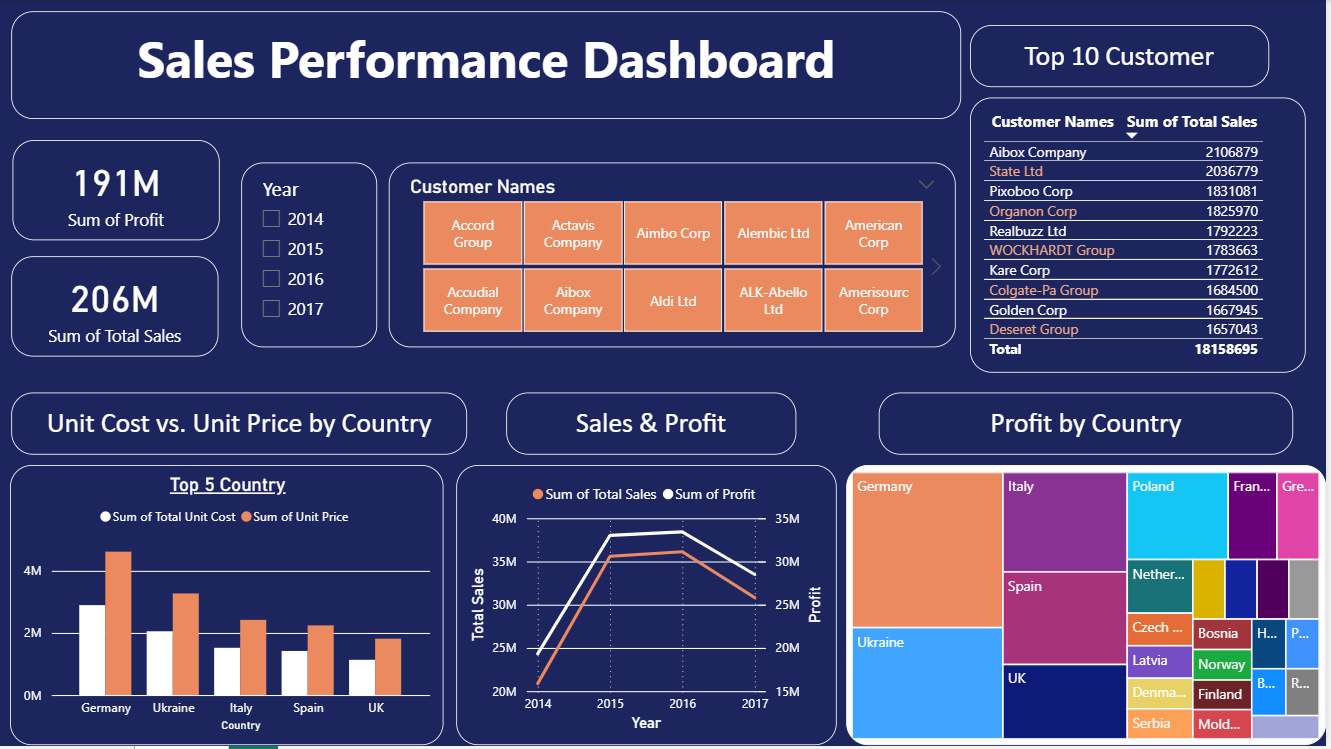

Layout of this report page (visuals, bound fields, positions):
{"tool":"powerbi","page":{"name":"Page 1","canvas":[1280,720],"ordinal":0},"visuals":[{"type":"card","fields":{"Values":["Sum(sales_orders.Line Total)"]},"box":[11.4,246.9,200,97],"z":0},{"type":"tableEx","fields":{"Values":["customers.Customer Names","Sum(sales_orders.Line Total)"]},"box":[935.7,94.3,324.3,265.7],"z":1000},{"type":"treemap","fields":{"Values":["Sum(sales_orders.Profit)"],"Details":["regions.Country"]},"box":[817.1,448.6,462.9,270],"z":2000},{"type":"lineChart","fields":{"Y":["Sum(sales_orders.Line Total)"],"Y2":["Sum(sales_orders.Profit)"],"Category":["sales_orders.OrderDate.Variation.Date Hierarchy.Year"]},"box":[440,448.6,367.1,270],"z":3000},{"type":"card","fields":{"Values":["Sum(sales_orders.Profit)"]},"box":[11.7,135.7,200,97.1],"z":4000},{"type":"clusteredColumnChart","title":"Top 5 Country","fields":{"Category":["regions.Country"],"Y":["Sum(sales_orders.Total Unit Cost)","Sum(sales_orders.Unit Price)"]},"box":[10,448.6,418.6,270],"z":5000},{"type":"textbox","box":[488.6,378.6,280,60],"z":6000},{"type":"textbox","box":[11.4,378.6,440,60],"z":7000},{"type":"textbox","box":[848.6,378.6,400,60],"z":8000},{"type":"slicer","fields":{"Values":["sales_orders.OrderDate.Variation.Date Hierarchy.Year"]},"box":[232.9,157.1,131.4,178.6],"z":9000},{"type":"slicer","fields":{"Values":["customers.Customer Names"]},"box":[374.9,156.6,547.1,178.6],"z":10000},{"type":"textbox","box":[935.7,24.3,288.6,60],"z":11000},{"type":"textbox","box":[11.4,11.4,917.1,104.3],"z":12000}]}

Visuals, with their boxes in screenshot pixels (x1, y1, x2, y2), scaled from the page's 1280x720 canvas onto the 1331x749 screenshot:
card - Sum(sales_orders.Line Total): box(12, 257, 220, 358)
tableEx - customers.Customer Names x Sum(sales_orders.Line Total): box(973, 98, 1310, 374)
treemap - Sum(sales_orders.Profit) x regions.Country: box(850, 467, 1330, 748)
lineChart - Sum(sales_orders.Line Total) x Sum(sales_orders.Profit): box(458, 467, 839, 748)
card - Sum(sales_orders.Profit): box(12, 141, 220, 242)
"Top 5 Country" clusteredColumnChart: box(10, 467, 446, 748)
textbox: box(508, 394, 799, 456)
textbox: box(12, 394, 469, 456)
textbox: box(882, 394, 1298, 456)
slicer - sales_orders.OrderDate.Variation.Date Hierarchy.Year: box(242, 163, 379, 349)
slicer - customers.Customer Names: box(390, 163, 959, 349)
textbox: box(973, 25, 1273, 88)
textbox: box(12, 12, 965, 120)
